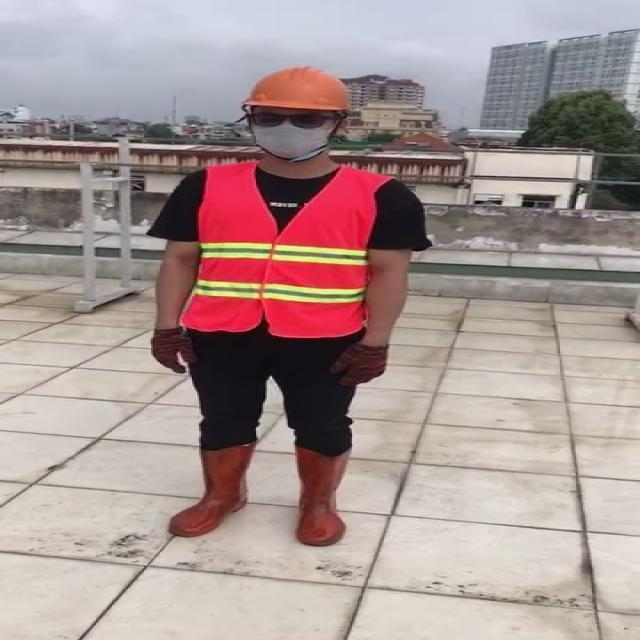helmet: (235, 62, 356, 118)
safety_vest: (187, 166, 380, 336)
